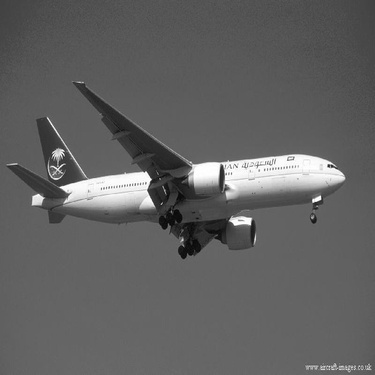airplane: (5, 78, 351, 268)
